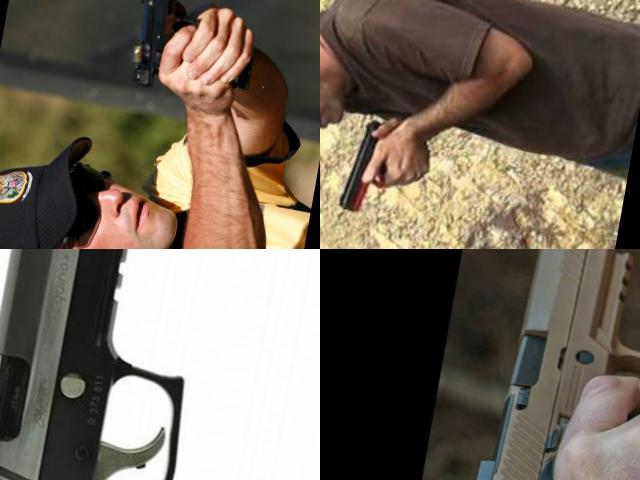handgun: (0, 249, 320, 480), (452, 249, 640, 480), (121, 0, 273, 110), (333, 111, 409, 220)
